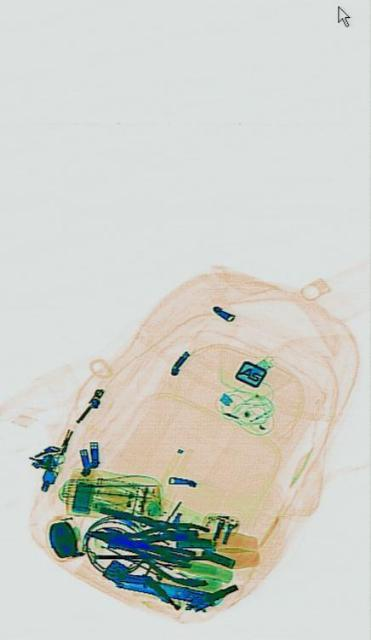Pliers: (83, 499, 210, 591)
